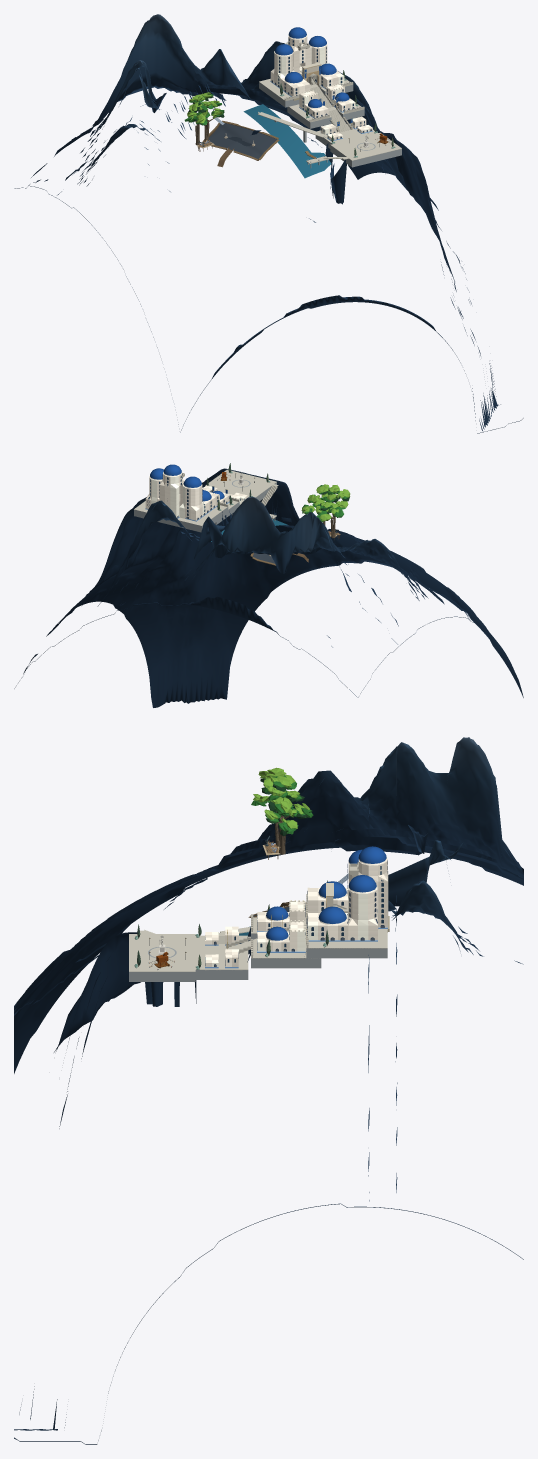
Rendered from citadel-west-city-v1.glb.
The picture shows the model from 3 angles, top to bottom: view 1: azimuth 30°, elevation 25°; view 2: azimuth 150°, elevation 25°; view 3: azimuth 270°, elevation 25°; orthographic projection. The views are drawn at different scales.
Visible parts, largest first — view 1: citadel-oskar-grid-mountain-surface, west-city-crown, west-city-water-channel, navona-plaza-basin-stone, west-city-middle, west-city-plaza-deck, citadel-tarn-companion-pine, west-city-harbor, citadel-sacred-tarn-elder-tree, west-city-plaza-foundation; view 2: citadel-oskar-grid-mountain-surface, west-city-crown, west-city-plaza-deck, citadel-tarn-companion-pine, citadel-sacred-tarn-elder-tree; view 3: citadel-oskar-grid-mountain-surface, west-city-crown, west-city-plaza-deck, west-city-middle, citadel-sacred-tarn-elder-tree, citadel-tarn-companion-pine, west-city-harbor-promenade-0, west-city-harbor, west-city-crown-retaining-wall-1.
Part boxes in pixels (x1=…): citadel-oskar-grid-mountain-surface: x1=14, y1=14, x2=523, y2=433; west-city-crown: x1=270, y1=27, x2=344, y2=100; west-city-water-channel: x1=243, y1=104, x2=331, y2=178; navona-plaza-basin-stone: x1=208, y1=123, x2=276, y2=158; west-city-middle: x1=299, y1=83, x2=355, y2=118; west-city-plaza-deck: x1=330, y1=132, x2=401, y2=160; citadel-tarn-companion-pine: x1=184, y1=94, x2=210, y2=144; west-city-harbor: x1=320, y1=116, x2=372, y2=141; citadel-sacred-tarn-elder-tree: x1=189, y1=92, x2=224, y2=141; west-city-plaza-foundation: x1=330, y1=145, x2=401, y2=167; citadel-oskar-grid-mountain-surface: x1=14, y1=468, x2=523, y2=707; west-city-crown: x1=145, y1=464, x2=219, y2=521; west-city-plaza-deck: x1=205, y1=469, x2=276, y2=497; citadel-tarn-companion-pine: x1=316, y1=485, x2=350, y2=537; citadel-sacred-tarn-elder-tree: x1=301, y1=484, x2=340, y2=525; citadel-oskar-grid-mountain-surface: x1=14, y1=737, x2=523, y2=1444; west-city-crown: x1=306, y1=846, x2=389, y2=944; west-city-plaza-deck: x1=129, y1=934, x2=195, y2=971; west-city-middle: x1=257, y1=900, x2=305, y2=952; citadel-sacred-tarn-elder-tree: x1=264, y1=774, x2=299, y2=854; citadel-tarn-companion-pine: x1=251, y1=767, x2=313, y2=846; west-city-harbor-promenade-0: x1=195, y1=935, x2=248, y2=970; west-city-harbor: x1=205, y1=926, x2=238, y2=968; west-city-crown-retaining-wall-1: x1=306, y1=948, x2=387, y2=958.
Size of the model in its own units: 220 by 216 by 184.
